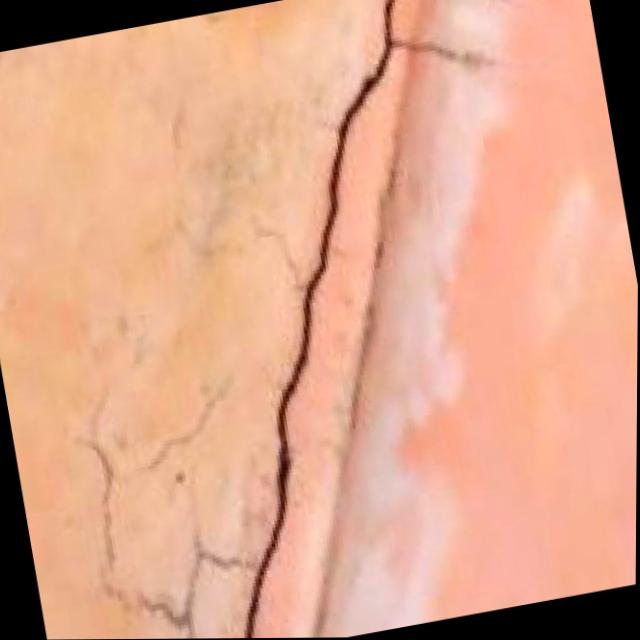Crack: (106, 0, 521, 639)
